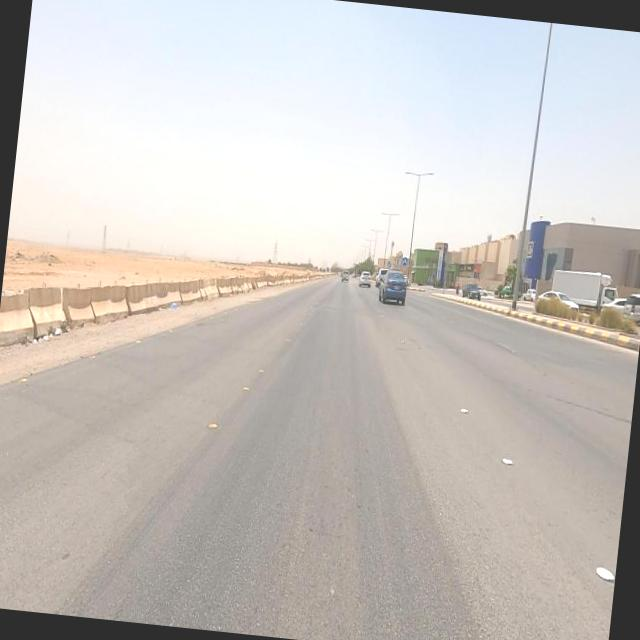debris: (4, 292, 101, 377), (140, 260, 198, 350)
